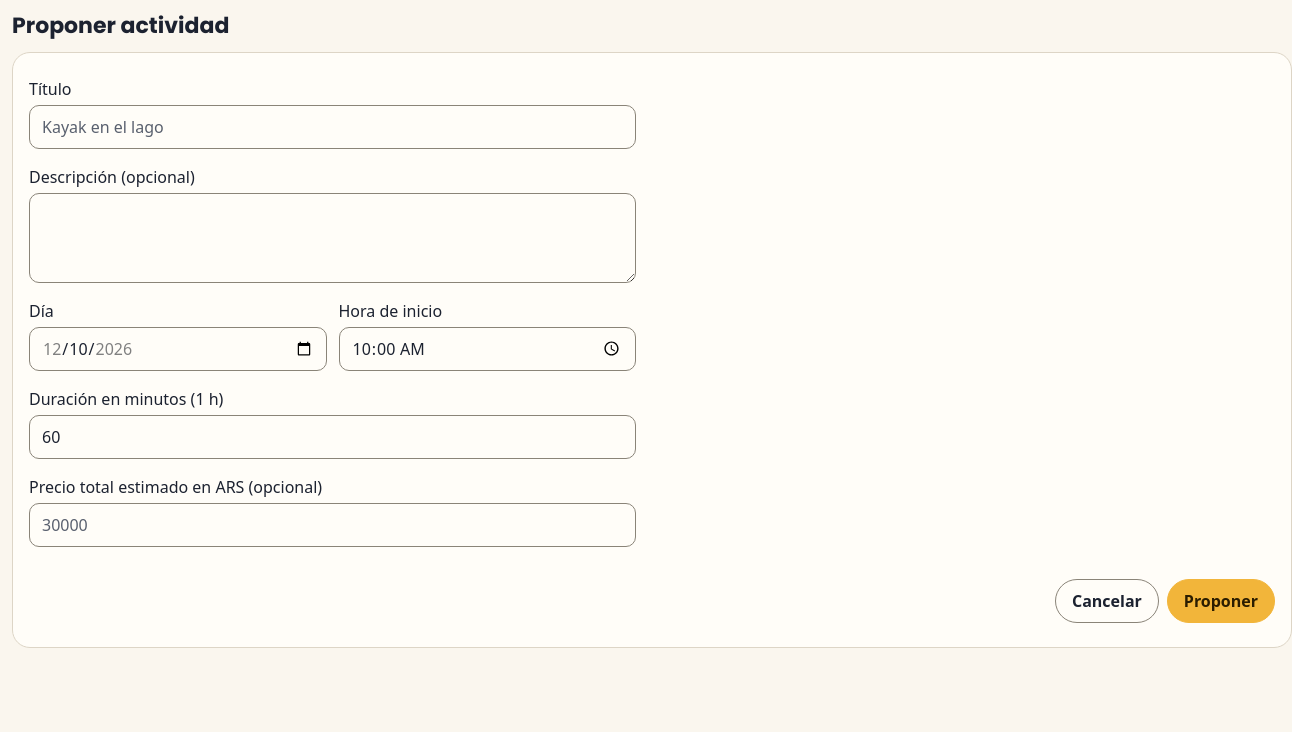
Scenario: ActividadFormularioVista › valida antes de enviar
Replace the text in the number field with id "actividad-duracion" with "0": x=332, y=436 [29, 414, 636, 458]
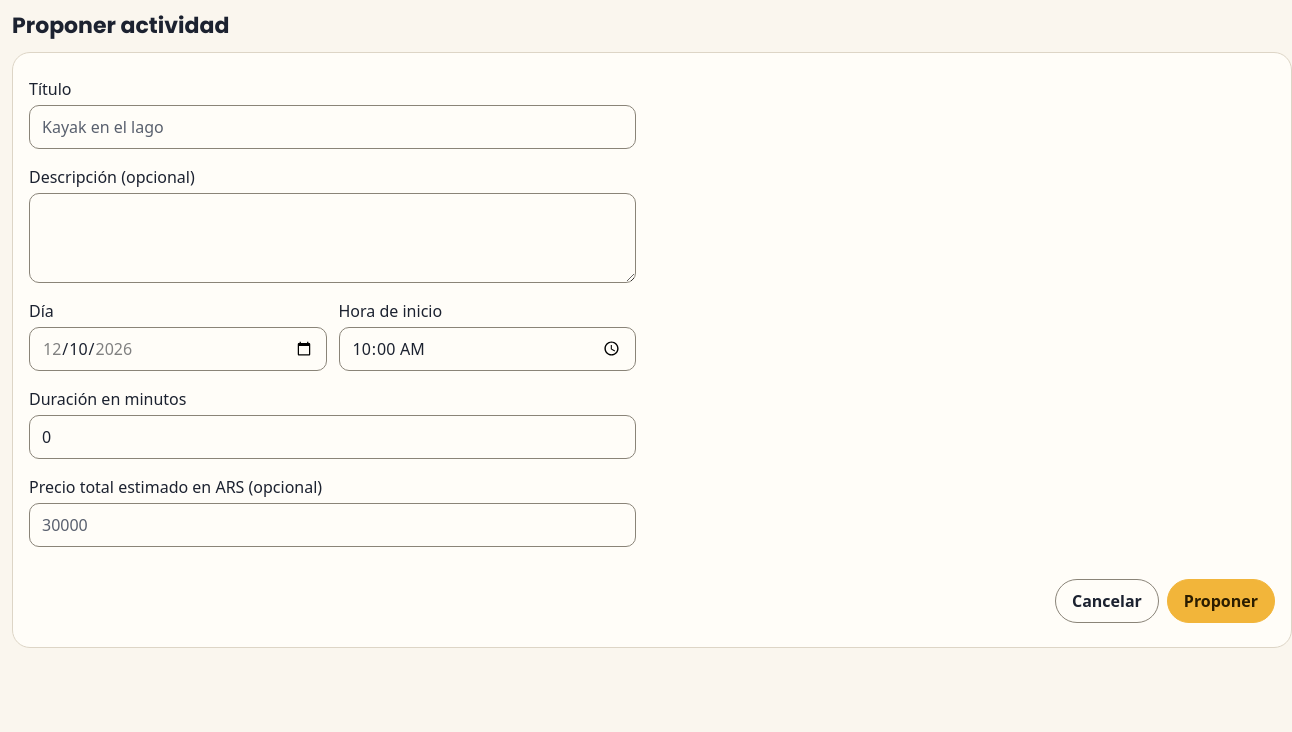
Submit the form
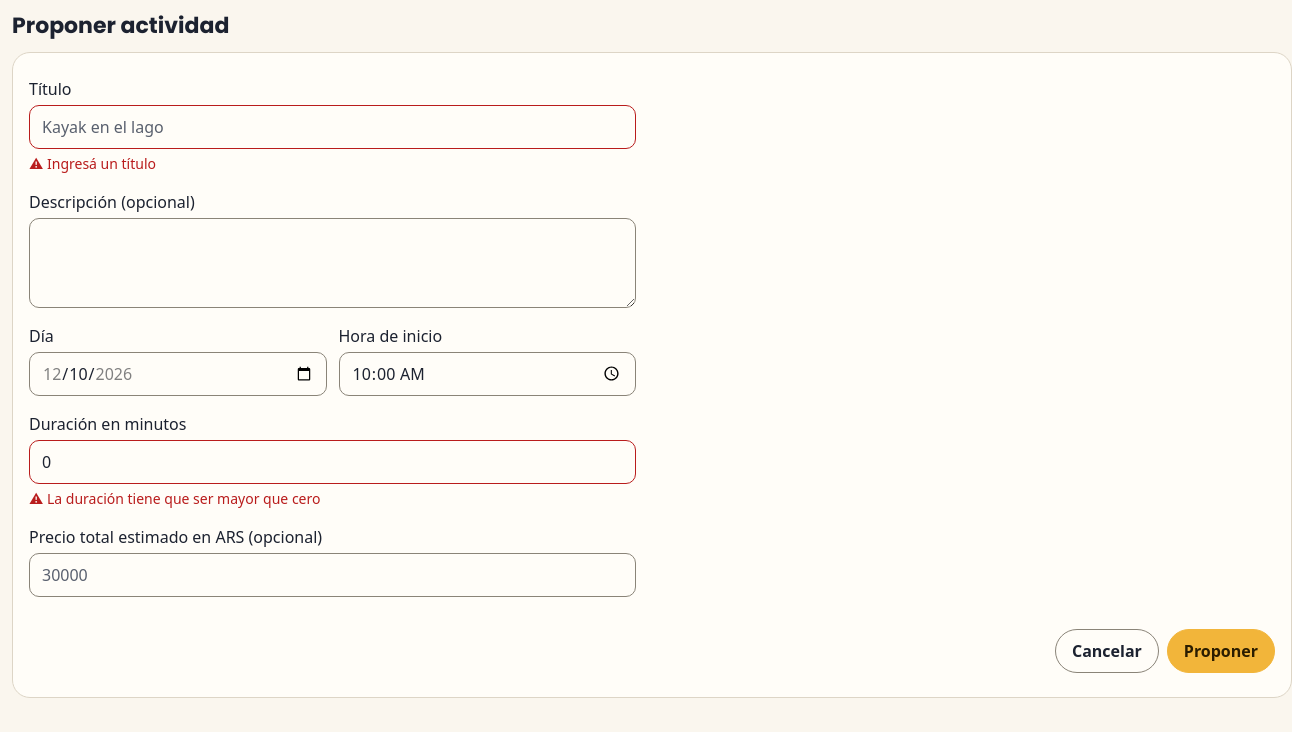
expect the text "Ingresá un título" is shown: met, box [47, 154, 156, 172]
expect the text "La duración tiene que ser mayor que cero" is shown: met, box [47, 488, 320, 508]
